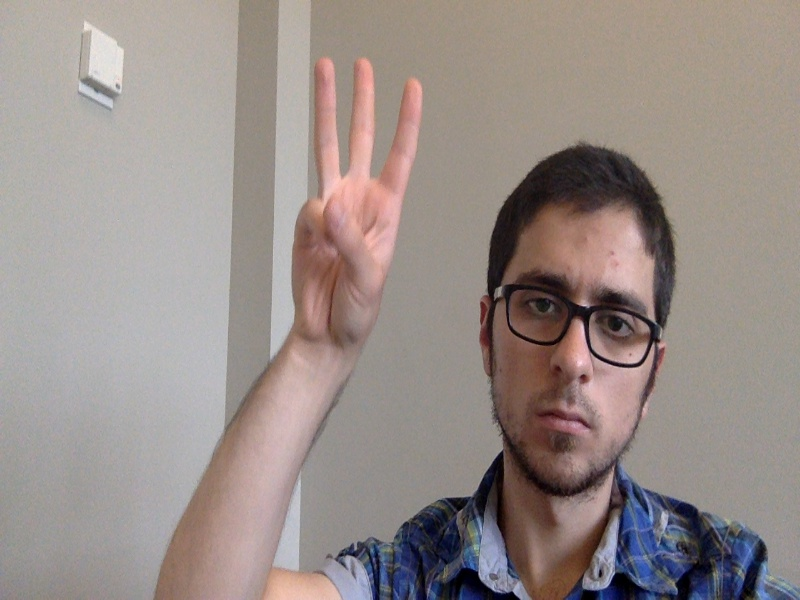3-hand: (289, 55, 424, 349)
